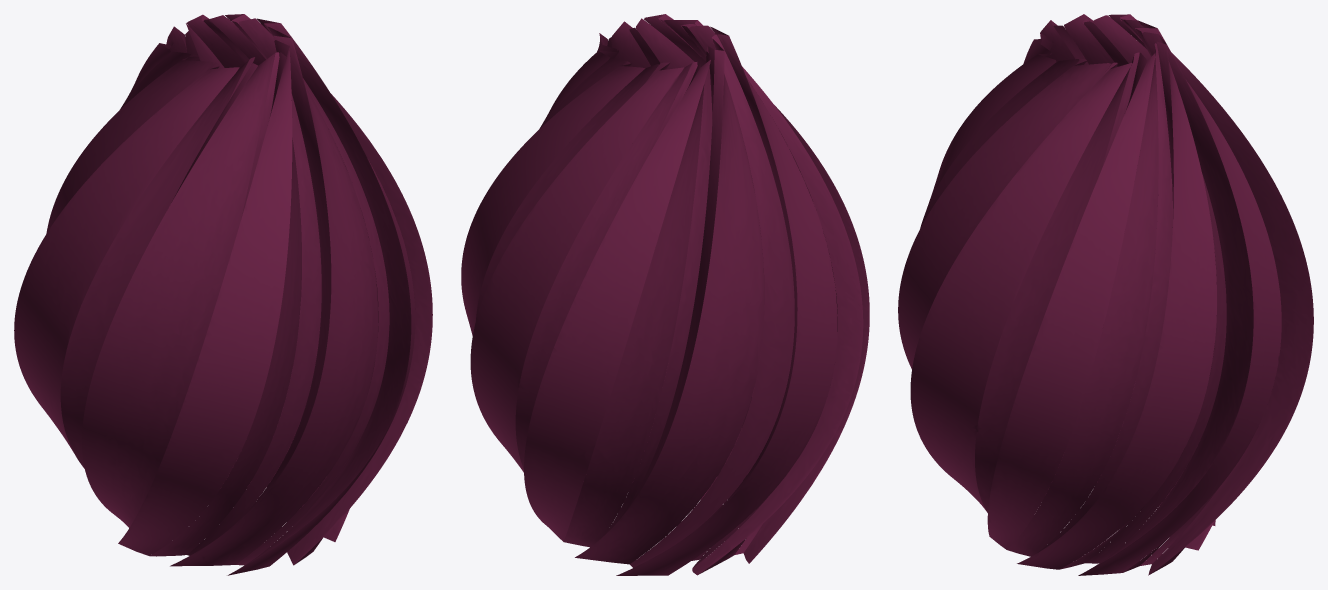
The model's file is blade-solo-6b1f45.glb.
3 renders of one model, left to right at view 1: azimuth 30°, elevation 25°; view 2: azimuth 150°, elevation 25°; view 3: azimuth 270°, elevation 25°, orthographic.
Visible parts, largest first — view 1: Blade; view 2: Blade; view 3: Blade.
Boxes of the visible parts, box(x1,y1,x2,y2) form: Blade: box(14, 14, 432, 575); Blade: box(461, 14, 869, 575); Blade: box(898, 14, 1313, 575).
Size of the model in its own units: 0.2775 by 0.37 by 0.2841.
